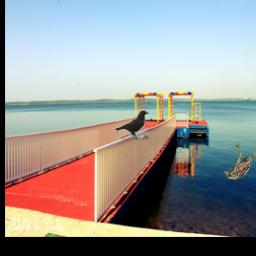Crow: (114, 111, 149, 140)
Sparrow: (225, 143, 256, 180)
